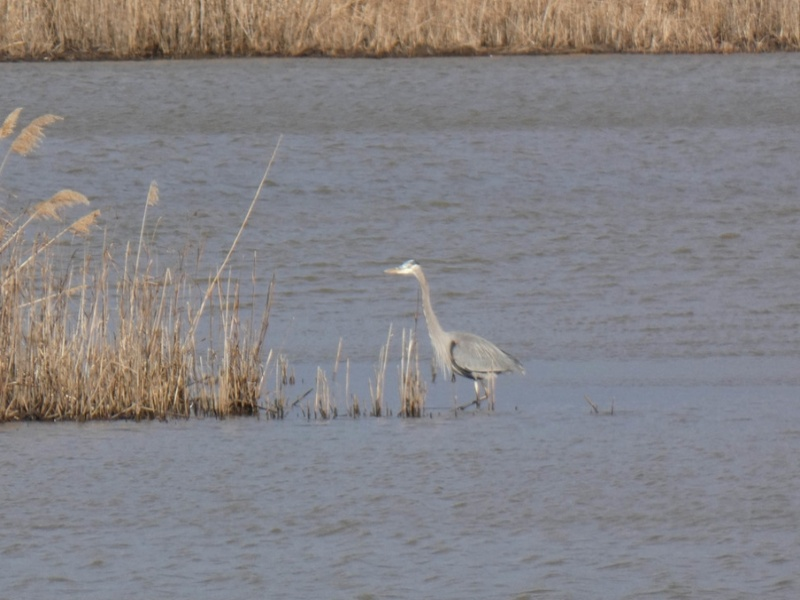heron: (381, 258, 528, 413)
